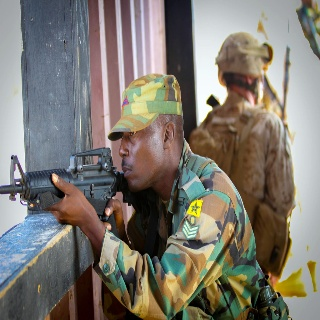rifle: (1, 146, 136, 225)
